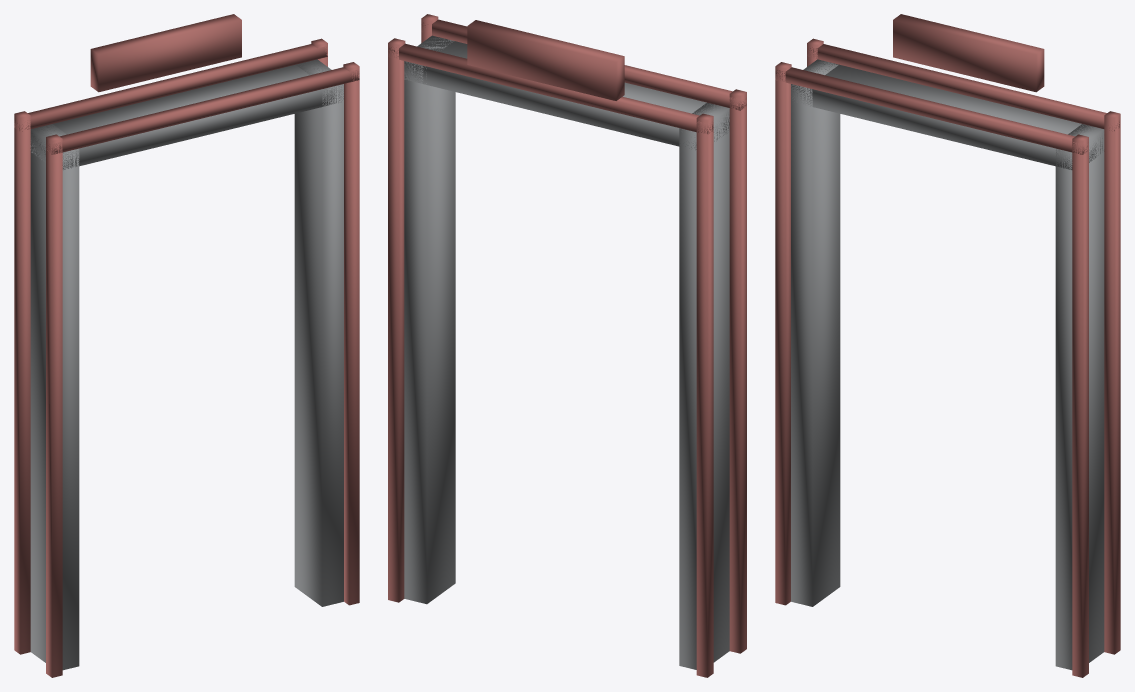
The model's file is doorway_emergency_exit_w122_h240_d24.glb.
3 views of the same model, side by side, from view 1: azimuth 30°, elevation 25°; view 2: azimuth 150°, elevation 25°; view 3: azimuth 330°, elevation 25° (orthographic). The views are drawn at different scales.
Visible parts, largest first — view 1: world; view 2: world; view 3: world.
Boxes of the visible parts, bbox=[...] form: world: bbox=[14, 14, 359, 677]; world: bbox=[388, 14, 746, 677]; world: bbox=[775, 14, 1120, 677].
Bounding box in the file's own units: 1.55 × 2.77 × 0.3798.
